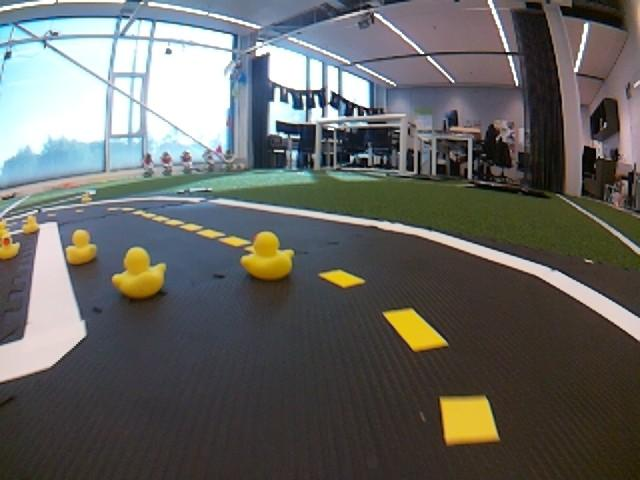Duckies: (111, 246, 165, 300), (241, 231, 294, 280), (66, 229, 98, 265), (0, 230, 18, 260), (21, 215, 40, 233), (82, 194, 92, 203)
